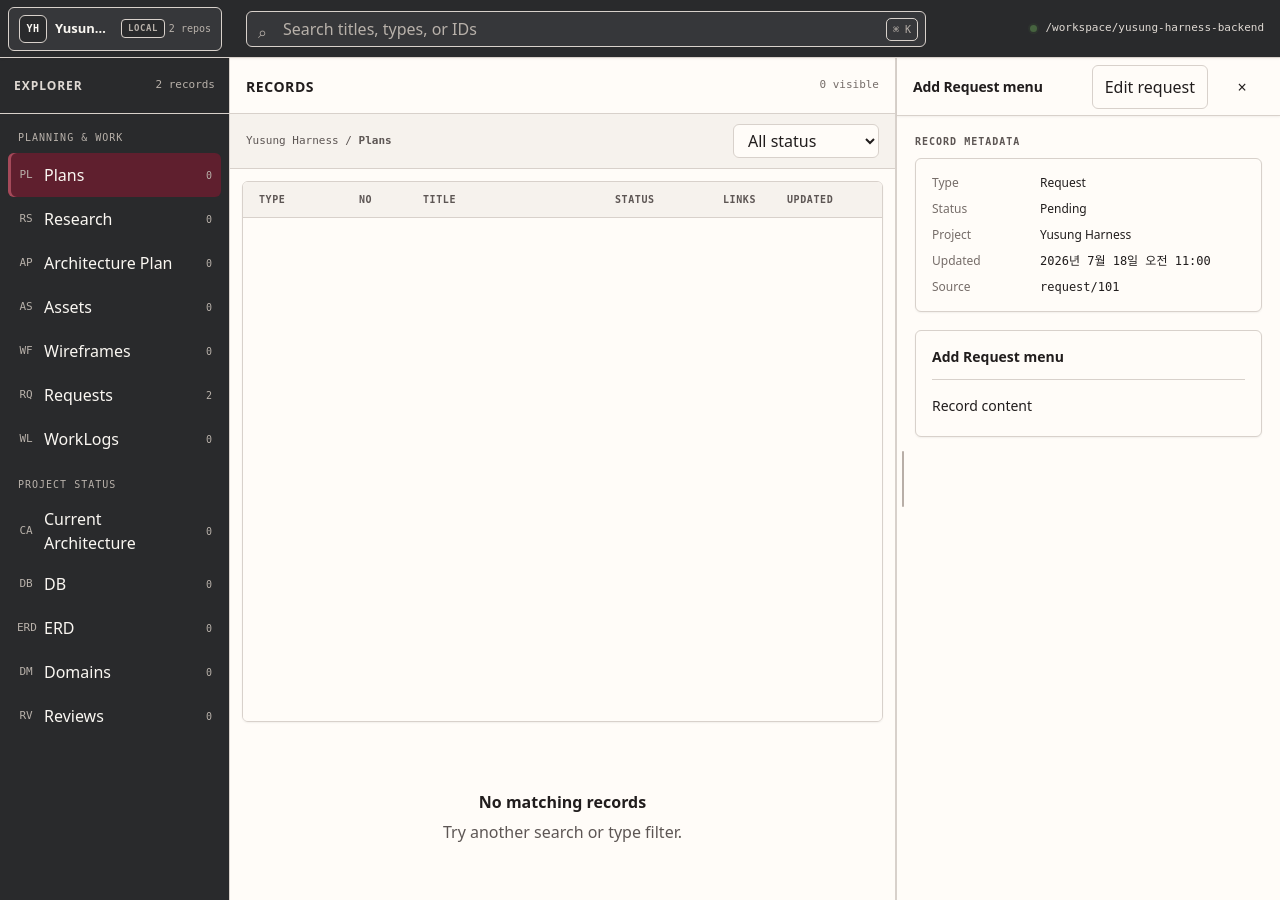
Request workspace navigation › 좌측 Project records에서 Request count를 표시하고 선택 URL을 유지한다
The image size is (1280, 900).
Expected: the text "Requests" is shown, [44, 384, 113, 406]
Expected: the text "2" is shown, [206, 388, 212, 402]
What coordinates should you click on to do the following:
click the button "RQ Requests 2"
I would click on:
 (114, 395)
Its box is [8, 373, 221, 417].
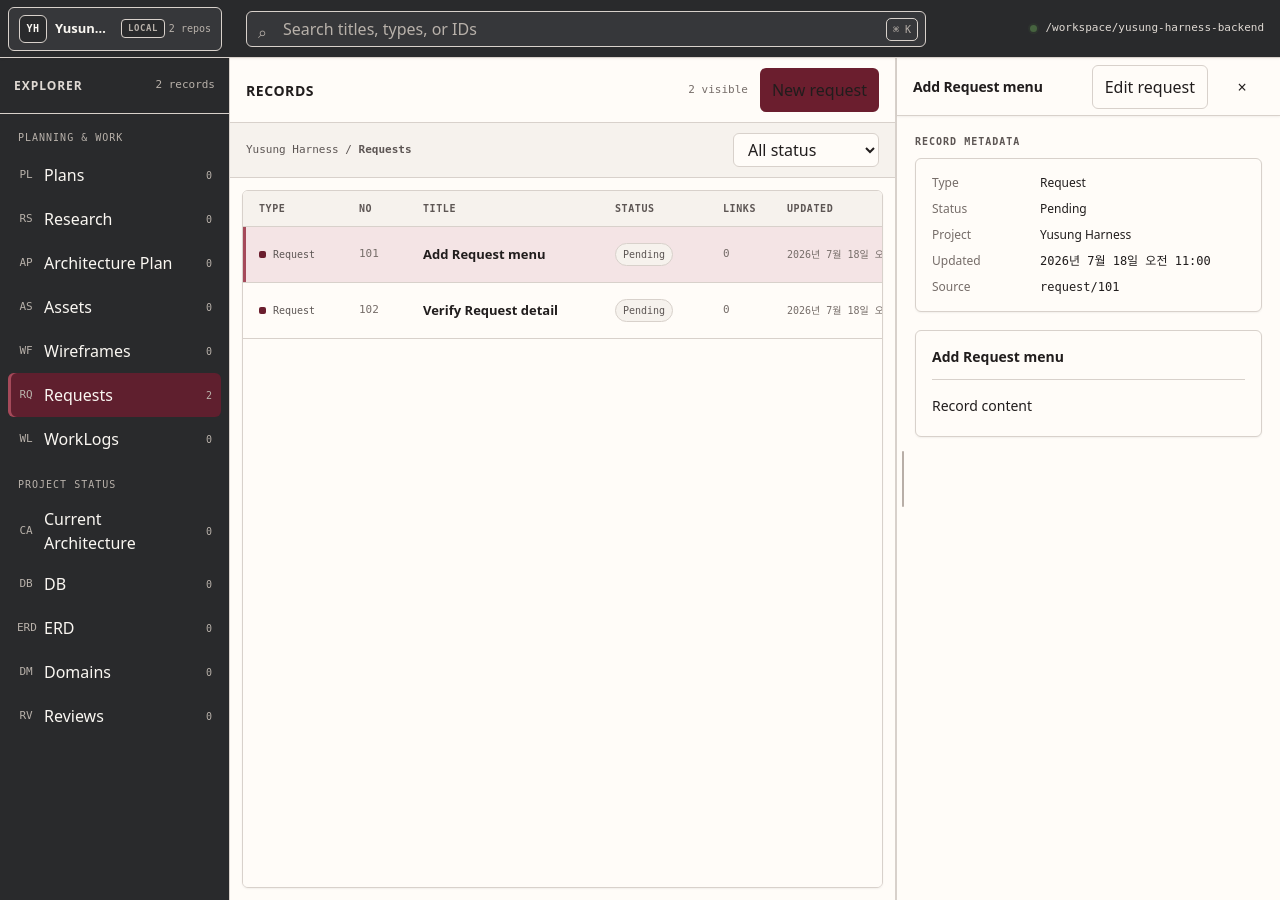
Expected: the number of options is 2, [243, 227, 883, 283]; [243, 283, 883, 339]
